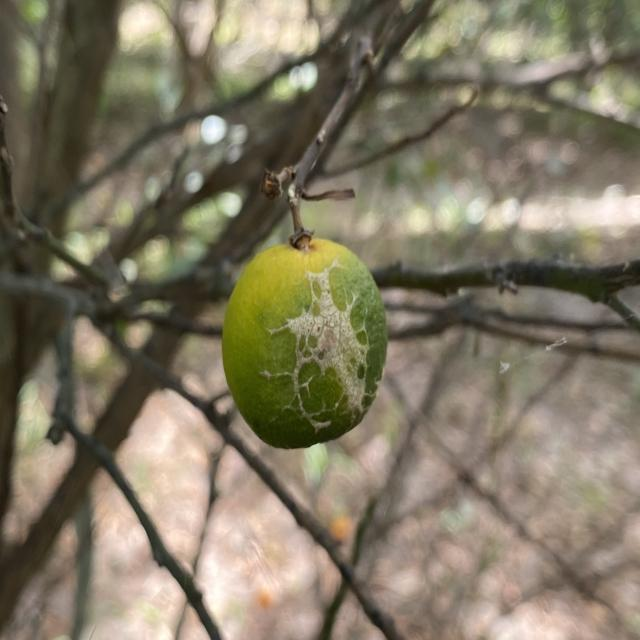thrips: (218, 237, 392, 446)
